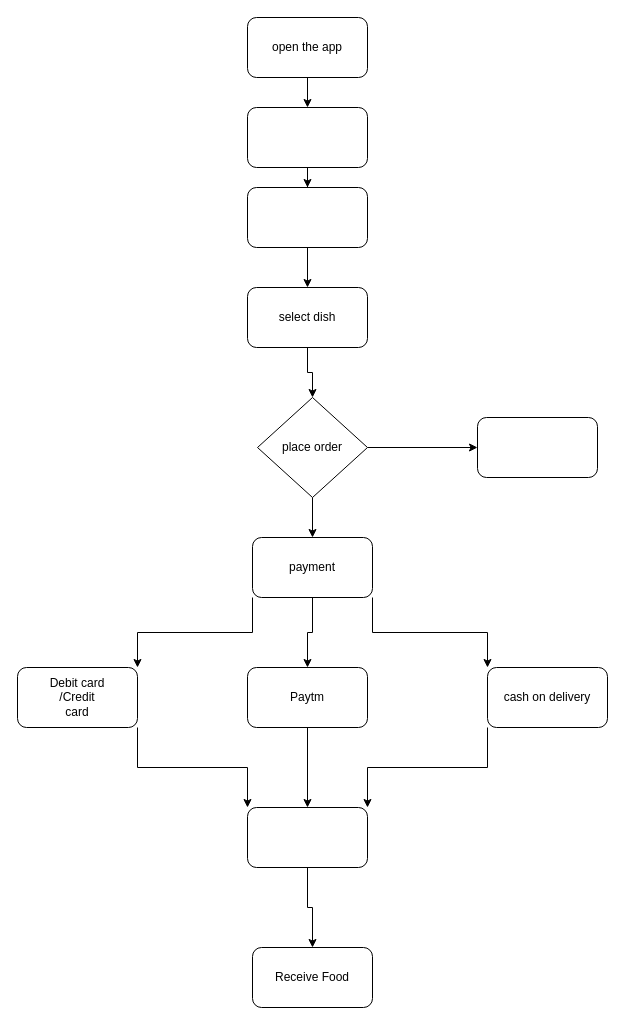
The diagram is 625 pixels wide and 1025 high, and some of its shapes have lost their labels. Here are the shapes that lost their labels. From the top down, the centre of each, then its label:
At point 307,137: "login/sign up".
At point 307,217: "search food".
At point 537,447: "display not available".
At point 307,837: "check status".
